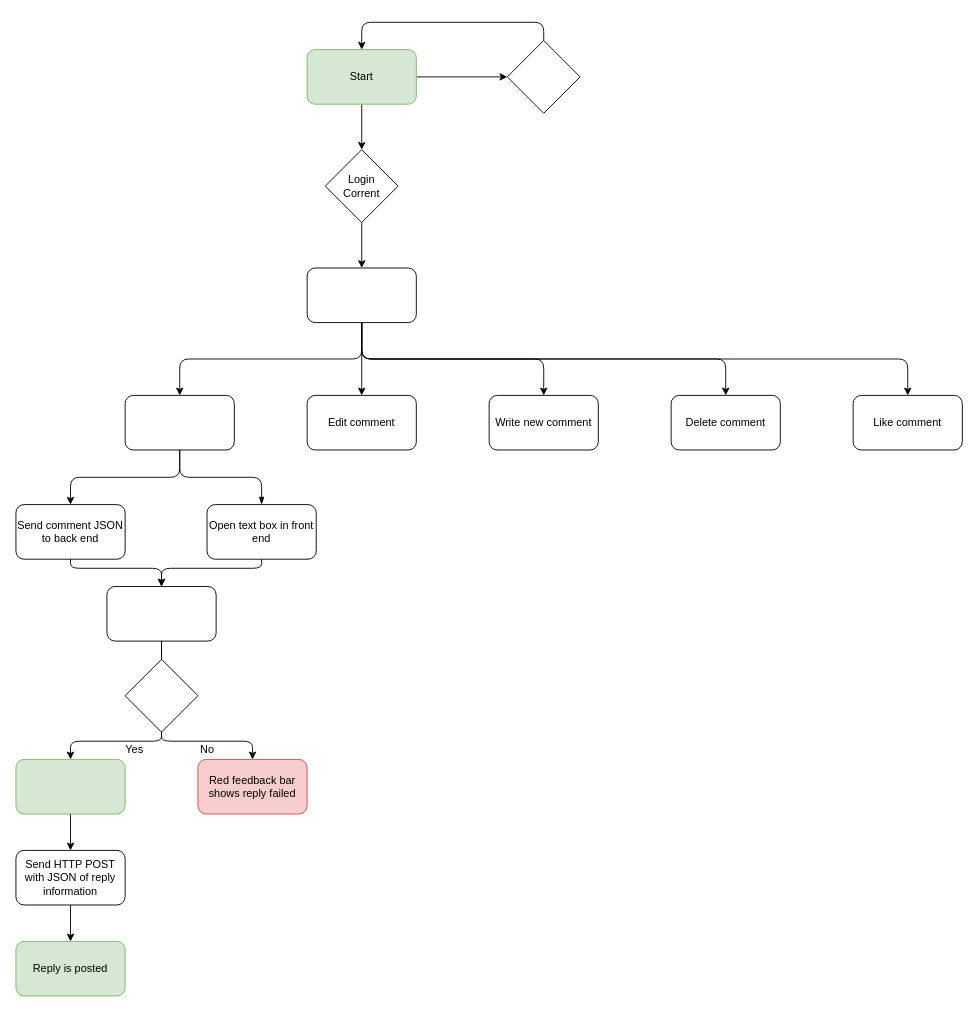
This 978x1012 diagram has some shape labels left out. The centre of each missing label's shape, as x and y in pixels:
"Click 'reply' to comment" belongs at (179,422).
"Did reply send?" belongs at (161,695).
"Green feedback bar shows reply was saved" belongs at (70,786).
"Home Screen" belongs at (361,295).
"Login Incorrect" belongs at (543,76).
"User enters reply" belongs at (161,613).
